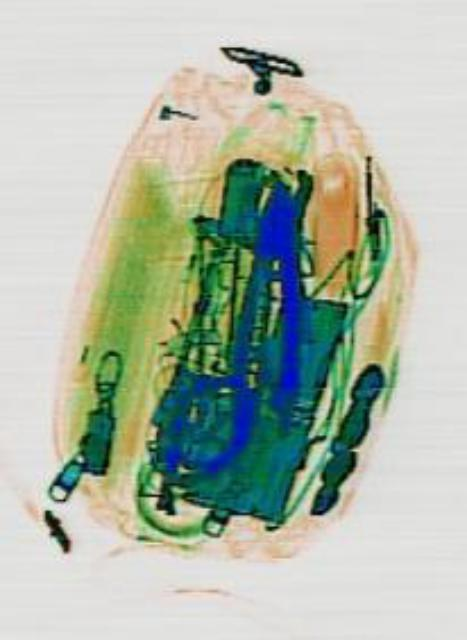Pliers: (225, 173, 314, 407)
